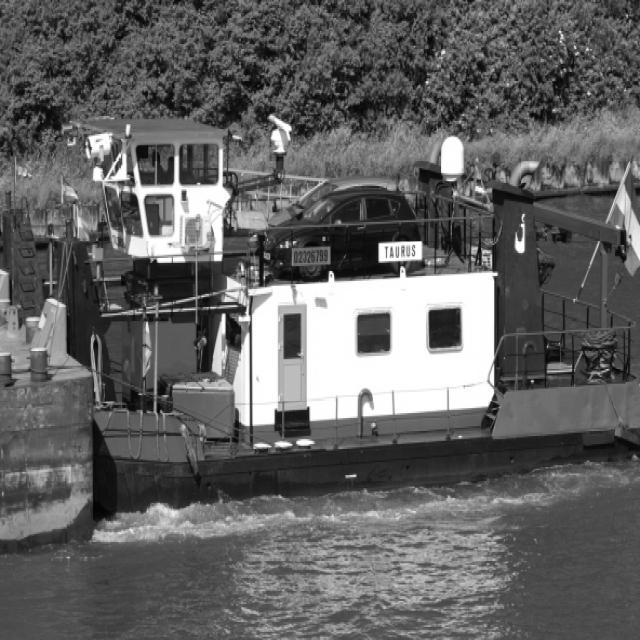tugboat: (1, 93, 640, 534)
